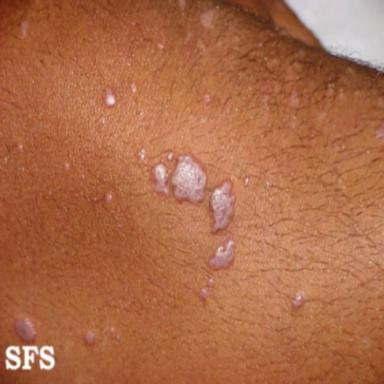lichen: (170, 155, 206, 203), (209, 180, 235, 232), (209, 239, 233, 270), (16, 317, 36, 342), (153, 163, 169, 194), (199, 278, 215, 302), (291, 293, 305, 311), (200, 10, 214, 28), (104, 88, 116, 107), (376, 119, 384, 139), (85, 331, 95, 345), (7, 348, 19, 359), (138, 148, 145, 162), (203, 94, 211, 106), (105, 192, 113, 203), (167, 151, 175, 162), (131, 82, 138, 94), (244, 176, 251, 187), (109, 326, 115, 335)
